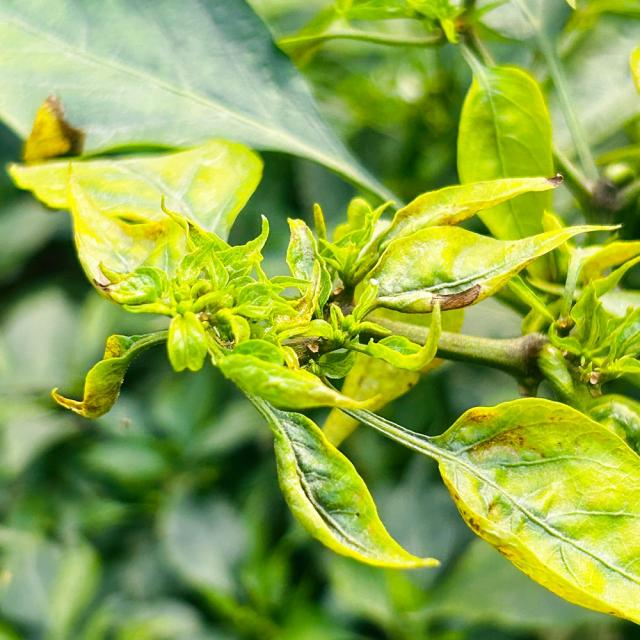Chilli_Leaf_Curl: (1, 1, 638, 628), (0, 0, 403, 212), (331, 394, 639, 626), (6, 95, 265, 303), (241, 386, 440, 571), (352, 220, 623, 315)
